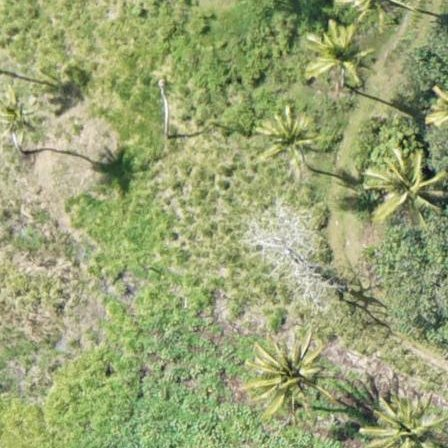palm_tree: (371, 149, 444, 222), (299, 24, 371, 87), (253, 339, 319, 405), (371, 393, 441, 448), (257, 109, 317, 165), (1, 85, 42, 143)
